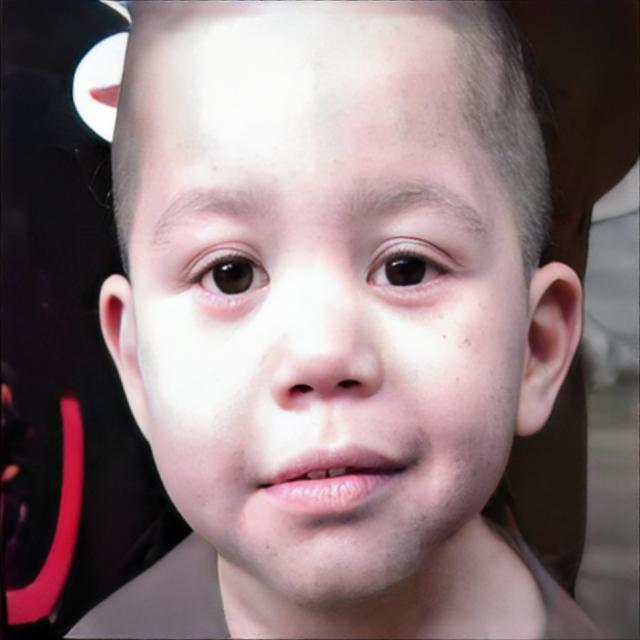content: (132, 25, 529, 608)
